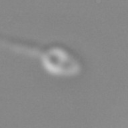normal: (1, 32, 44, 58)
